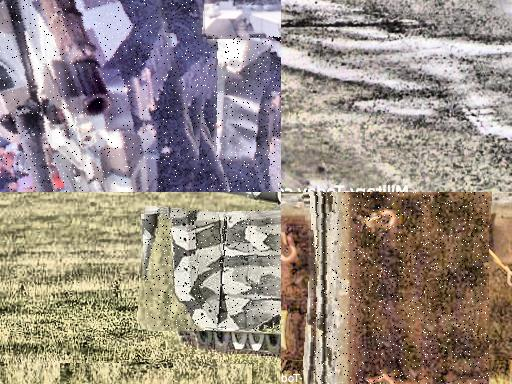tanks: (1, 1, 198, 193), (313, 193, 489, 384), (134, 37, 282, 193), (145, 211, 282, 332)
